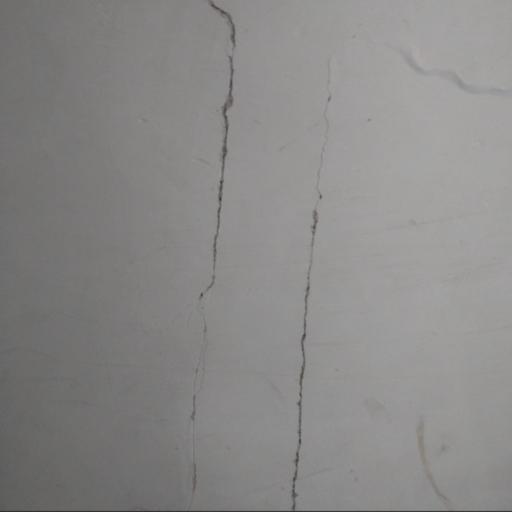minor_crack: (276, 23, 345, 512), (189, 0, 247, 512)
